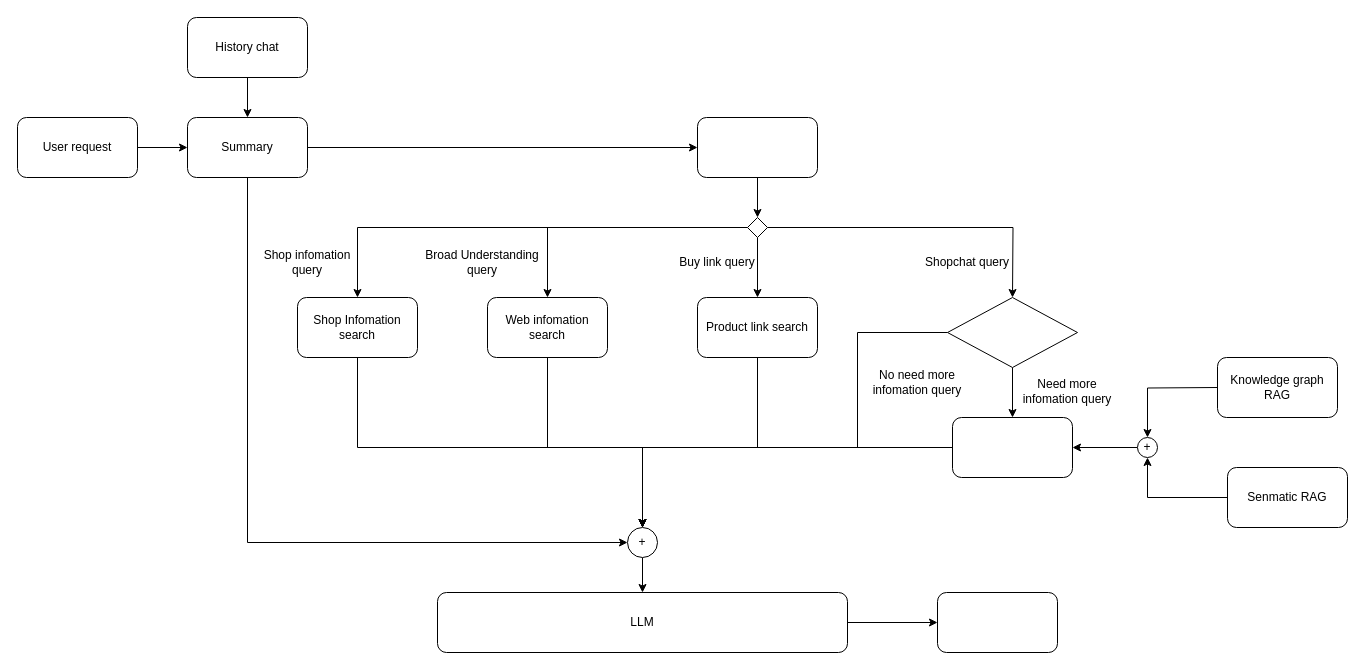
The diagram is 1365 pixels wide and 670 high, and some of its shapes have lost their labels. Here are the shapes that lost their labels. From the top down, the box of each, then its label:
(696, 116, 818, 178): Intention Agent
(946, 296, 1078, 368): Senmatic Router
(952, 416, 1072, 478): Detailed product information
(936, 592, 1058, 652): Response
